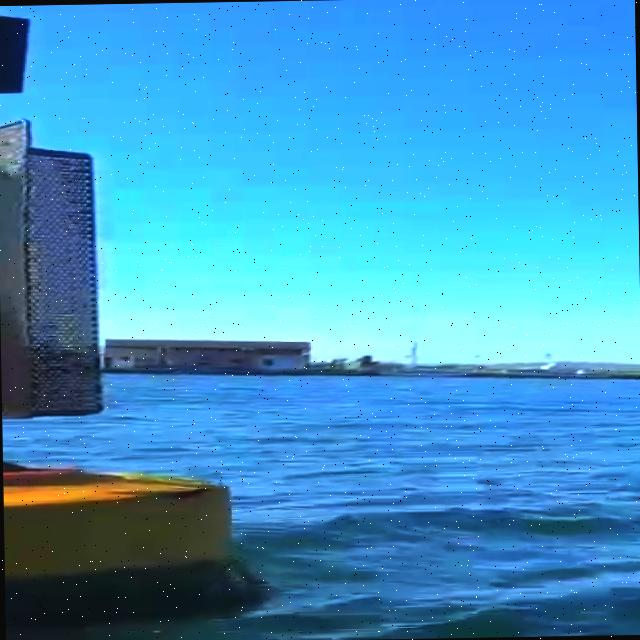marque: (1, 2, 250, 612)
